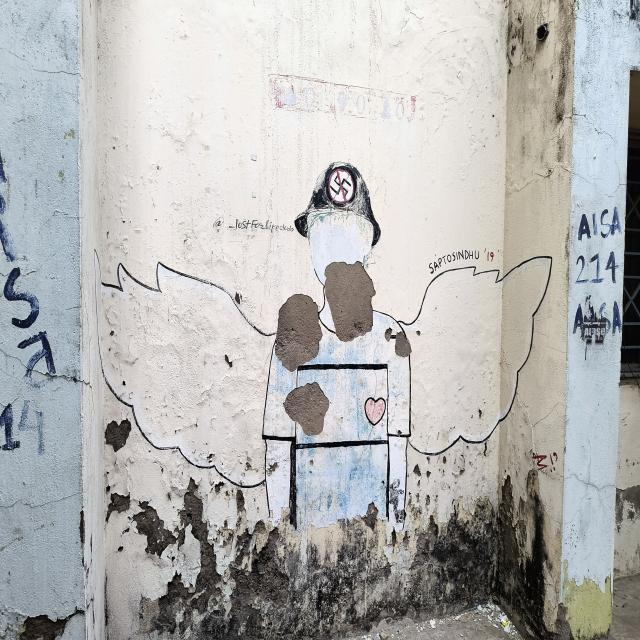peeling: (131, 470, 555, 640), (324, 261, 375, 342), (275, 294, 322, 372), (284, 383, 329, 435), (105, 420, 131, 450), (106, 493, 130, 520)
stain_mould: (131, 470, 555, 640)
